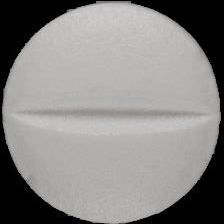62037-831: (0, 0, 224, 224)
